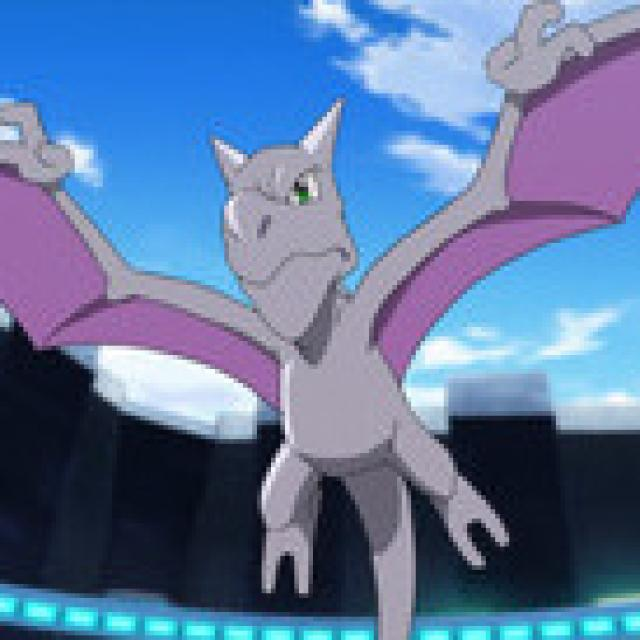Aerodactyl: (23, 83, 599, 581)
